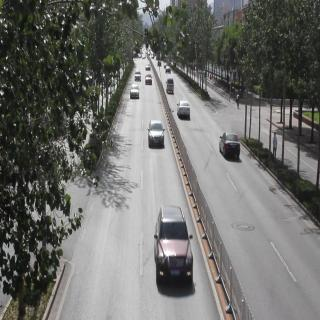Car: (155, 195, 196, 289), (213, 130, 242, 168), (146, 112, 167, 149), (165, 74, 181, 102), (178, 97, 192, 119), (129, 85, 140, 104), (129, 68, 143, 81), (143, 73, 153, 88), (143, 62, 155, 72)
